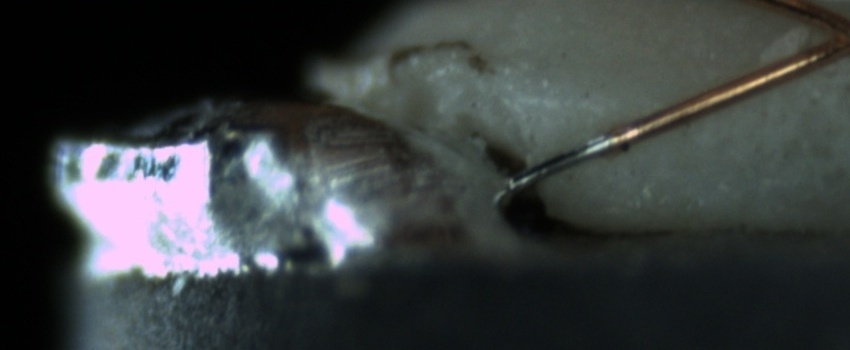CL: (801, 2, 850, 66)
TS: (505, 133, 620, 192)
